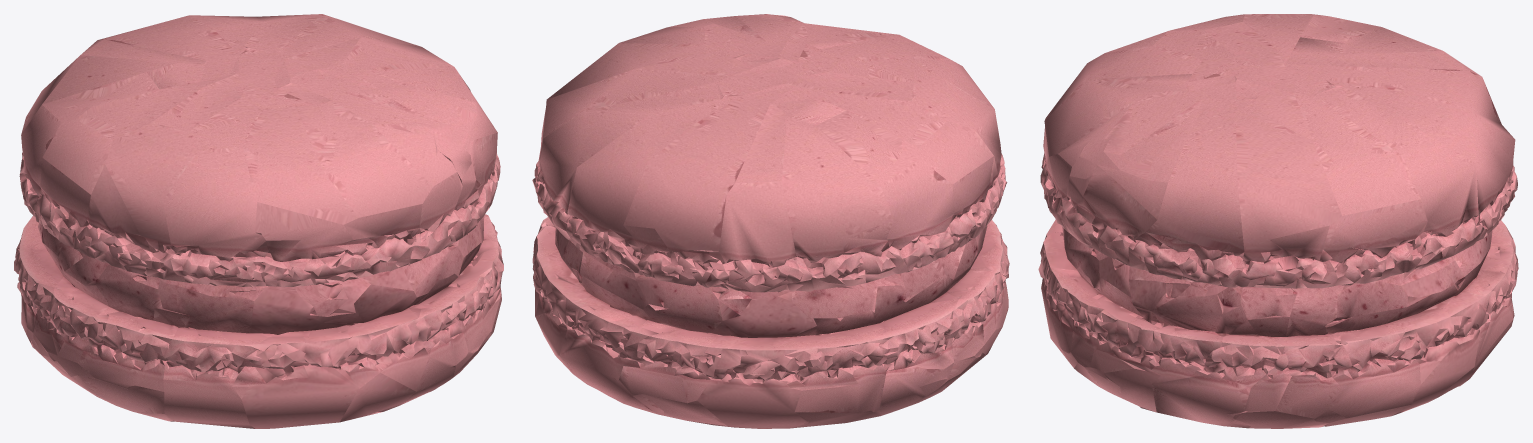
File: macaron-lo.glb
3 renders of one model, left to right at view 1: azimuth 30°, elevation 25°; view 2: azimuth 150°, elevation 25°; view 3: azimuth 270°, elevation 25°, orthographic.
Visible parts, largest first — view 1: Mesh_0; view 2: Mesh_0; view 3: Mesh_0.
Part boxes in pixels (<box>): Mesh_0: <box>14,14,503,428</box>; Mesh_0: <box>532,14,1009,428</box>; Mesh_0: <box>1038,14,1518,428</box>.
Bounding box in the file's own units: 1.89 × 1.16 × 1.88.
Materials: 1 (1 with a texture image).
